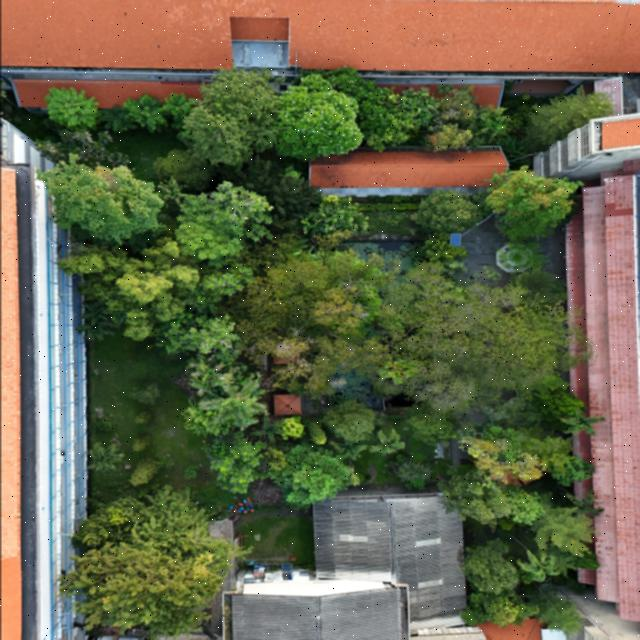Tree: (456, 540, 528, 596), (409, 192, 484, 235), (41, 86, 102, 130), (111, 268, 176, 304), (365, 428, 407, 460), (269, 416, 305, 441)
